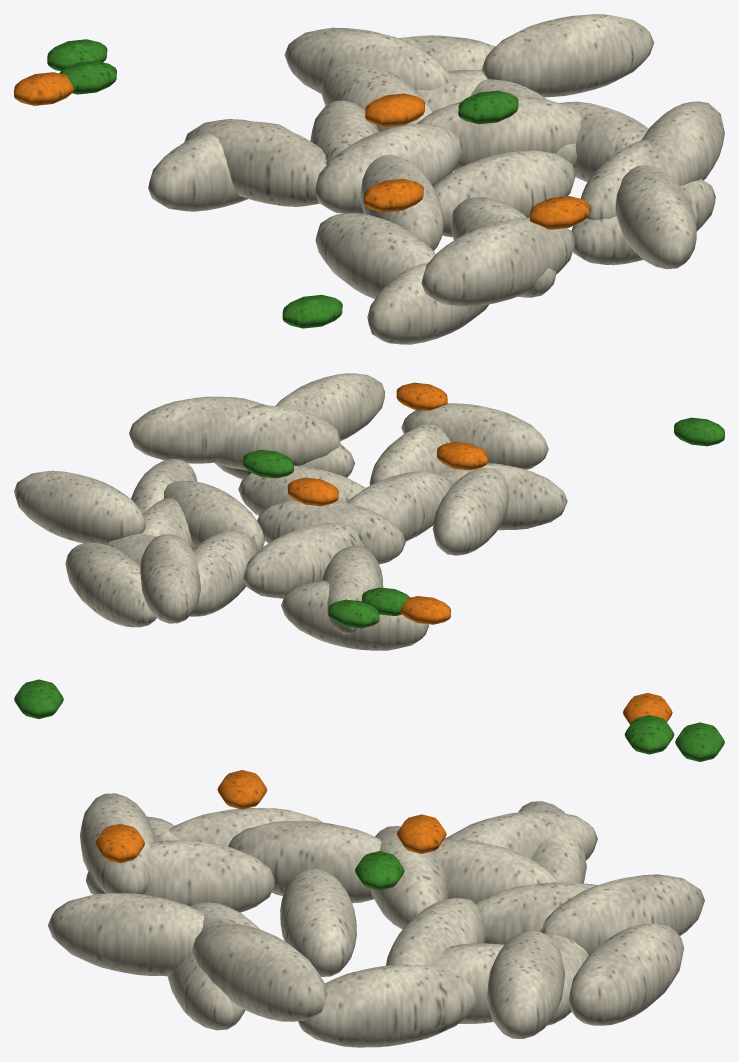
File: food-07-half.glb
3 renders of one model, top to bottom at view 1: azimuth 30°, elevation 25°; view 2: azimuth 150°, elevation 25°; view 3: azimuth 270°, elevation 25°, orthographic. The views are drawn at different scales.
Visible parts, largest first — view 1: Food; view 2: Food; view 3: Food.
Part boxes in pixels (bbox=[...]): Food: bbox=[14, 14, 724, 344]; Food: bbox=[14, 373, 724, 650]; Food: bbox=[14, 679, 724, 1047].
Size of the model in its own units: 0.4706 by 0.0925 by 0.4677.
1 material, 1 textured.
